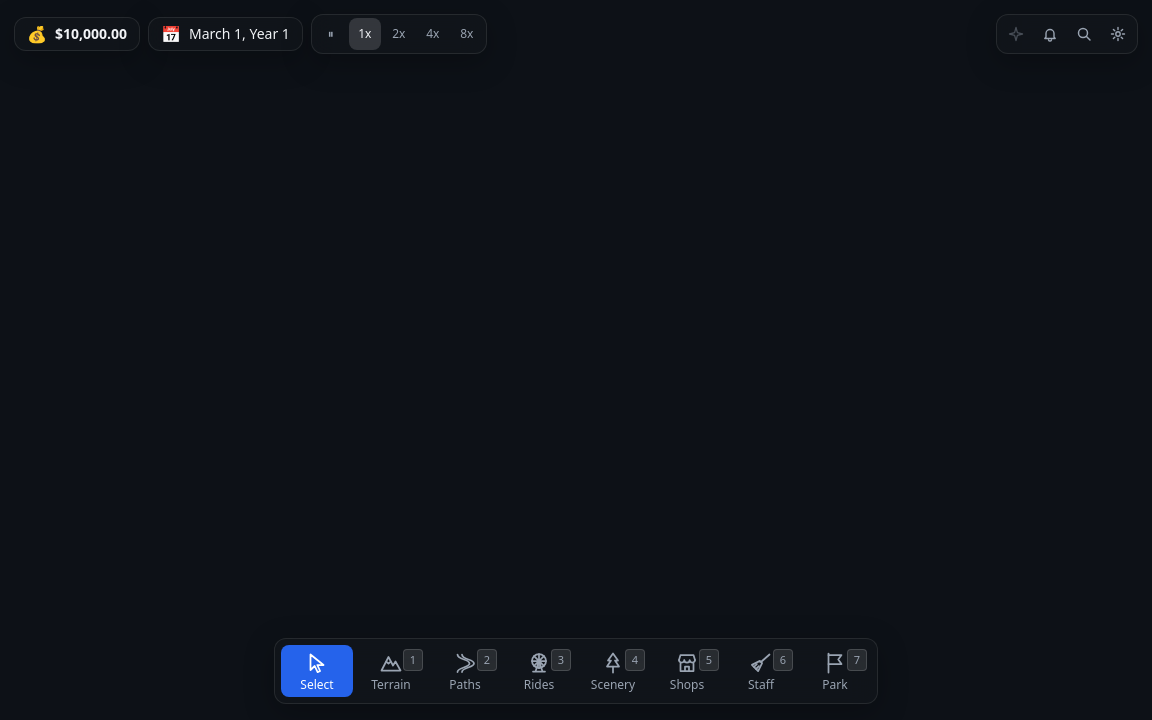
with nothing in hand › looks at the tile instead, as the park opens: no command, and the inspector on the tile
The image size is (1152, 720).
Press the mouse on the drawing named "Park view" at (576, 360), box [0,0,1151,719]
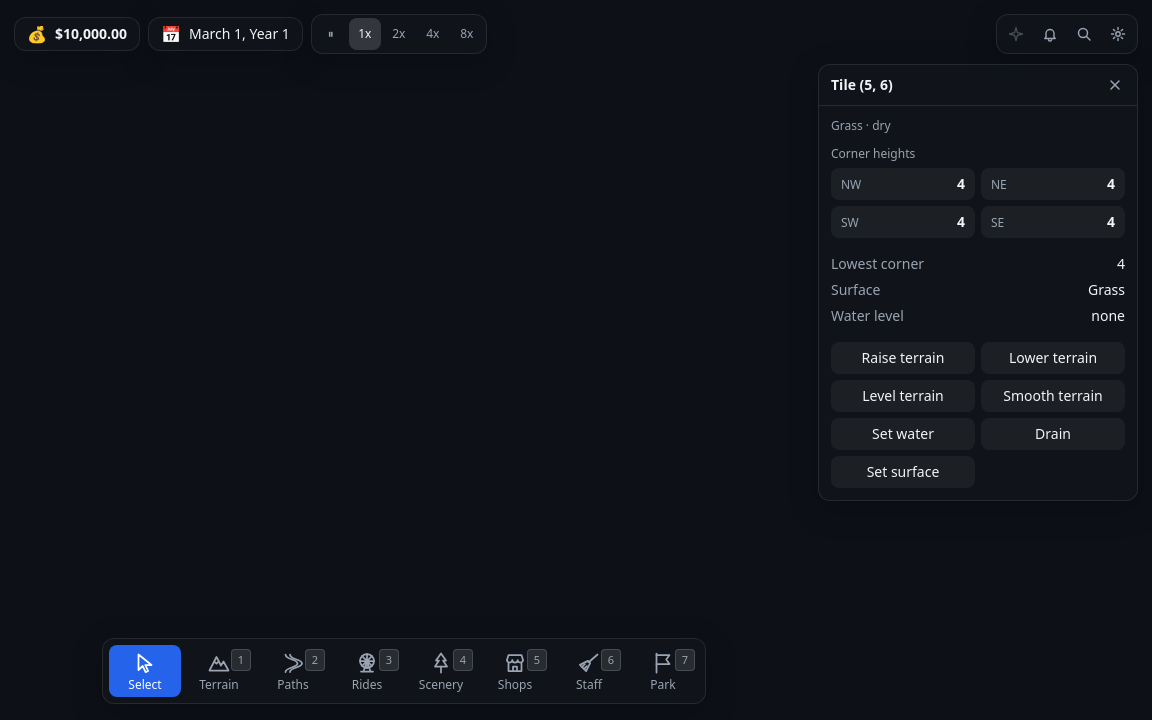
Now the heading "Tile (5, 6)" is shown, box [831,75,893,94]
